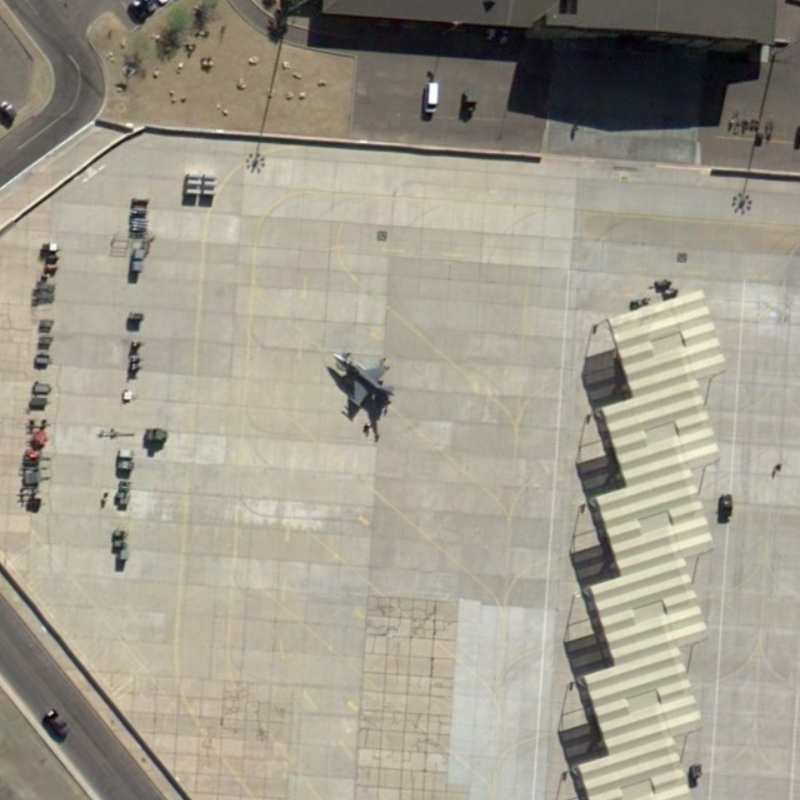A5: (328, 350, 400, 413)
